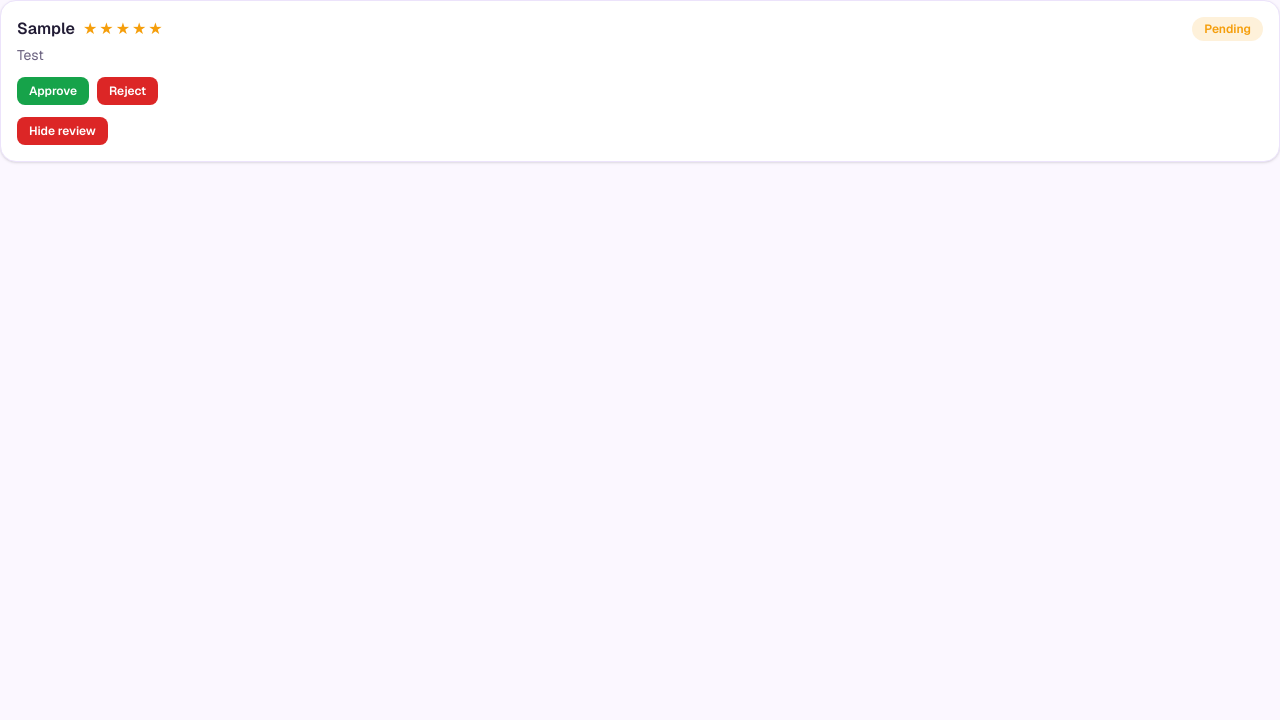
Test: shows a new review status immediately and restores it on server failure
Later steps or results of the test are not shown.
Click the button "Approve": (53, 91) x1=17 y1=77 x2=89 y2=105
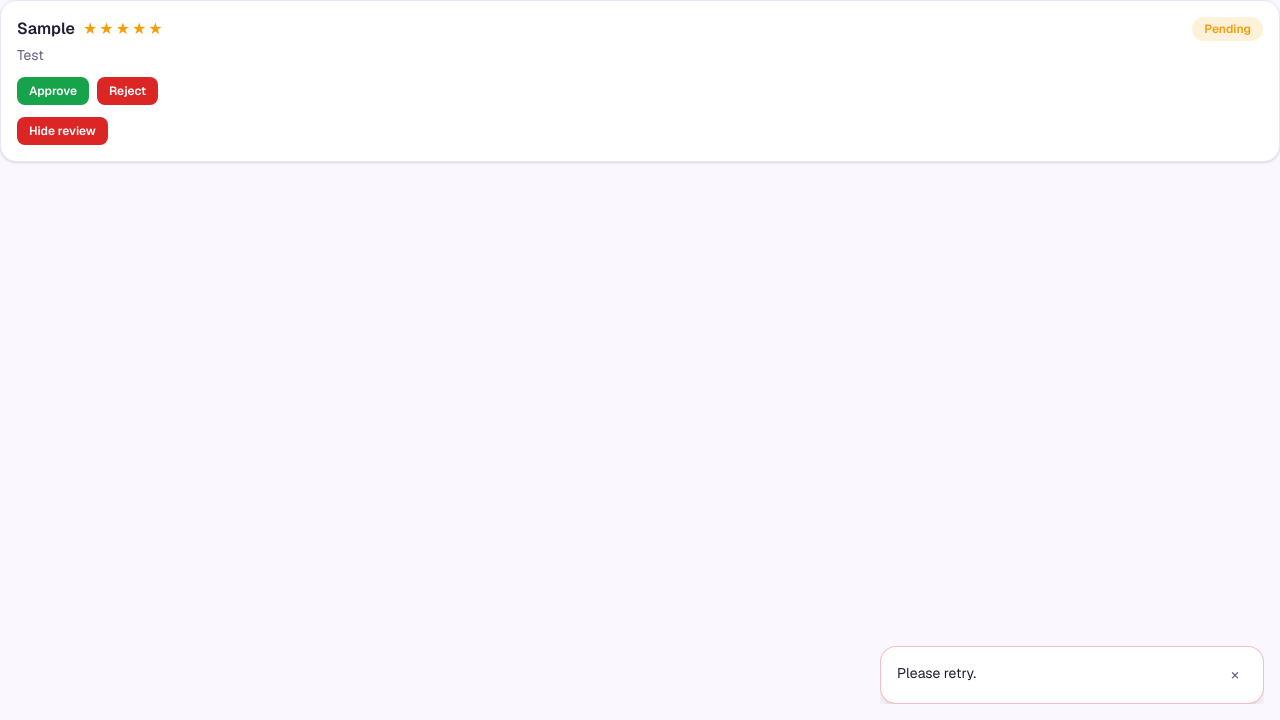
Expected: the text "pending" is shown, x1=1192 y1=17 x2=1263 y2=41
Expected: the text "Please retry." is shown, x1=897 y1=664 x2=976 y2=682
